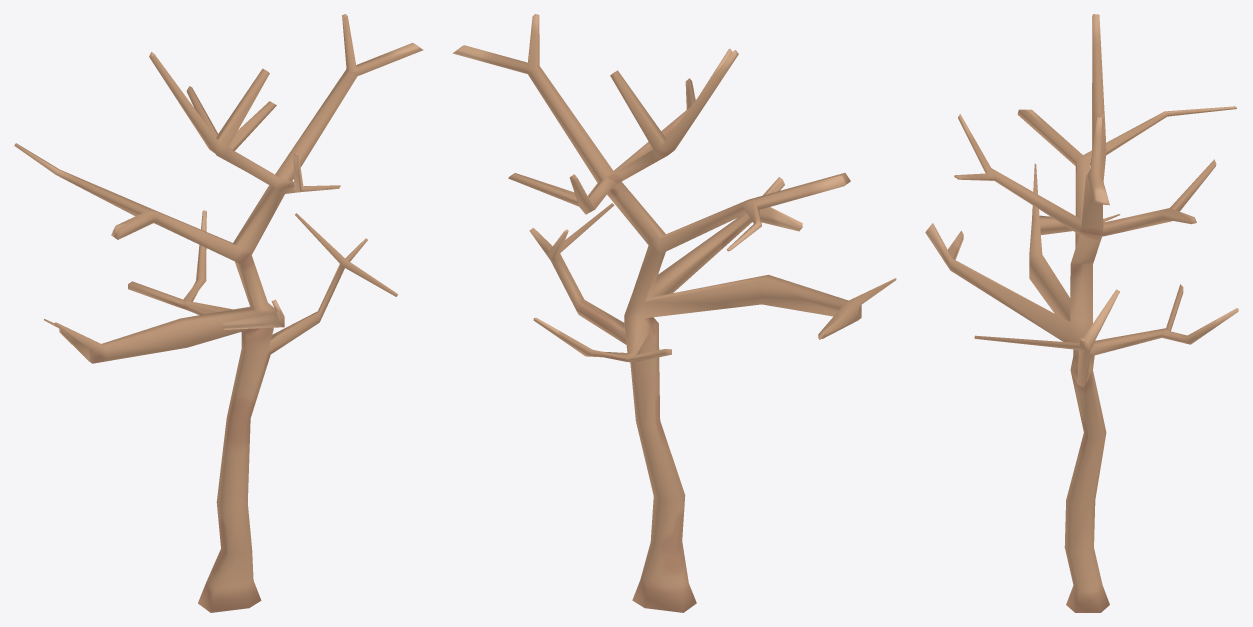
File: Arbre1.glb
The picture shows the model from 3 angles, left to right: view 1: azimuth 30°, elevation 25°; view 2: azimuth 150°, elevation 25°; view 3: azimuth 270°, elevation 25°; orthographic projection. The views are drawn at different scales.
Visible parts, largest first — view 1: Cube; view 2: Cube; view 3: Cube.
Part boxes in pixels (bbox=[...]): Cube: bbox=[14, 14, 423, 612]; Cube: bbox=[452, 14, 896, 612]; Cube: bbox=[925, 14, 1238, 612].
Bounding box in the file's own units: 2.75 × 3.71 × 1.91.
1 material, 1 textured.
